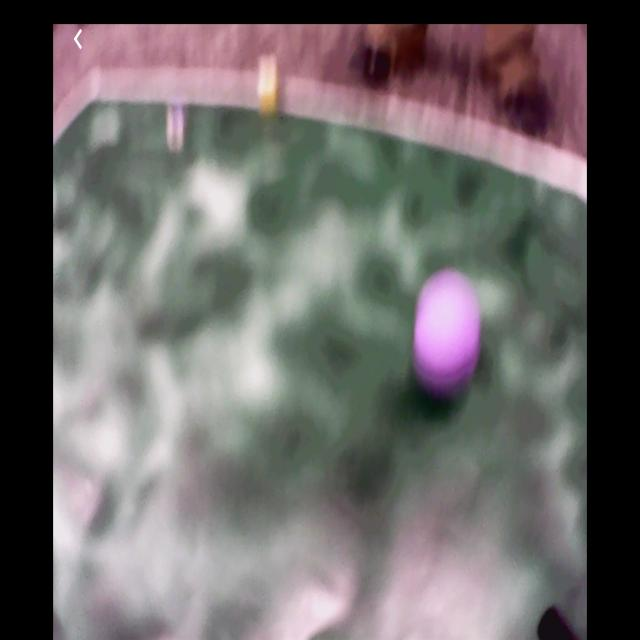ball: (416, 274, 481, 388)
